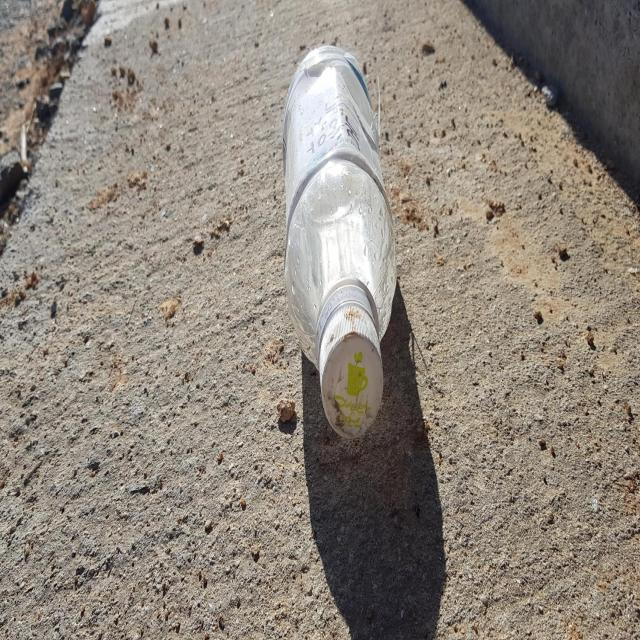plastic: (283, 43, 396, 437)
